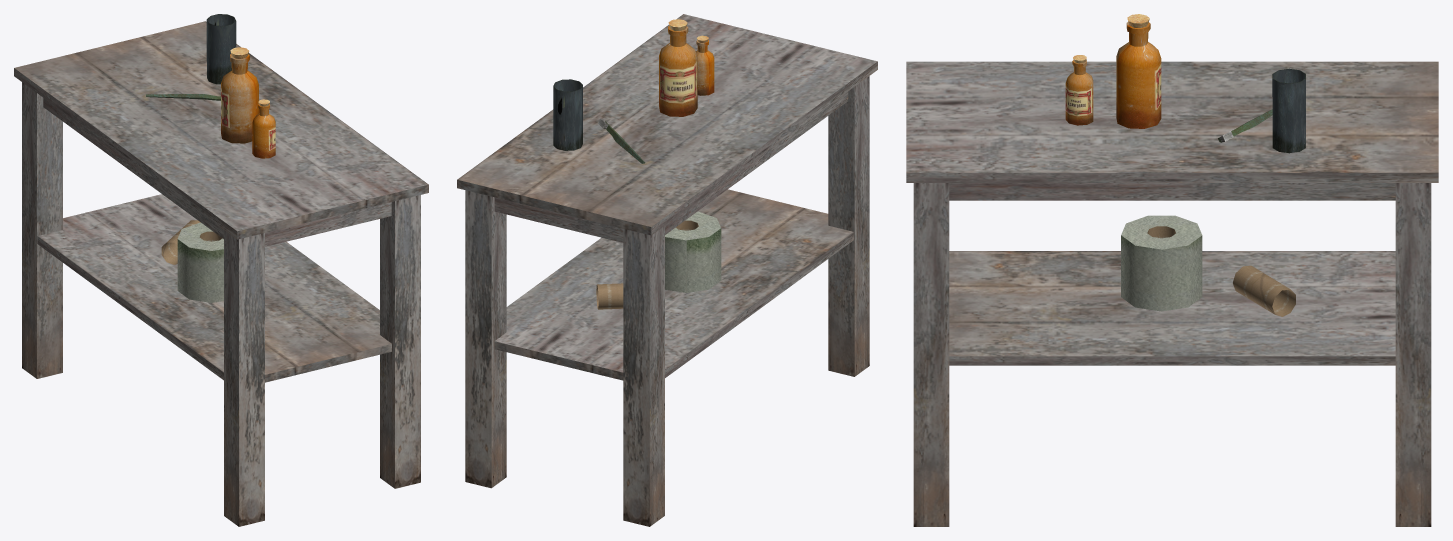
Rendered from EstanteBano.FBX.
The picture shows the model from 3 angles, left to right: view 1: azimuth 30°, elevation 25°; view 2: azimuth 150°, elevation 25°; view 3: azimuth 270°, elevation 25°; orthographic projection. The views are drawn at different scales.
Visible parts, largest first — view 1: Mesabano, Cylinder044, Cylinder036, Cylinder037, Cylinder043, Object037; view 2: Mesabano, Cylinder044, Cylinder036, Cylinder037, Cylinder043, Object037; view 3: Mesabano, Cylinder044, Cylinder036, Cylinder037, Object037, Cylinder043.
Part boxes in pixels (<box>): Mesabano: <box>14,21,428,526</box>; Cylinder044: <box>177,222,223,302</box>; Cylinder036: <box>221,47,258,143</box>; Cylinder037: <box>206,14,236,84</box>; Cylinder043: <box>252,99,275,158</box>; Object037: <box>161,220,200,264</box>; Mesabano: <box>457,14,877,526</box>; Cylinder044: <box>665,211,721,292</box>; Cylinder036: <box>659,19,697,116</box>; Cylinder037: <box>553,79,582,150</box>; Cylinder043: <box>695,35,714,95</box>; Object037: <box>596,283,623,309</box>; Mesabano: <box>906,61,1438,526</box>; Cylinder044: <box>1121,215,1202,311</box>; Cylinder036: <box>1116,14,1161,128</box>; Cylinder037: <box>1272,68,1305,153</box>; Object037: <box>1233,265,1295,316</box>; Cylinder043: <box>1065,55,1093,125</box>.
Bounding box in the file's own units: 17.47 × 33.43 × 35.26.
